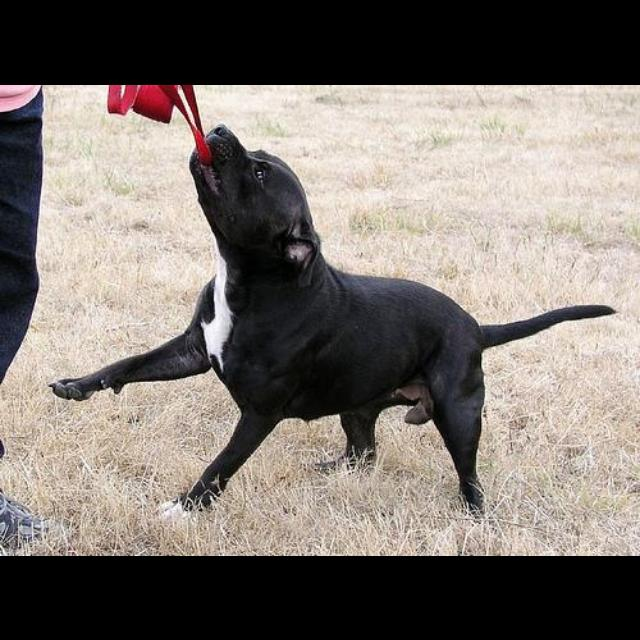staffford: (49, 121, 619, 524)
